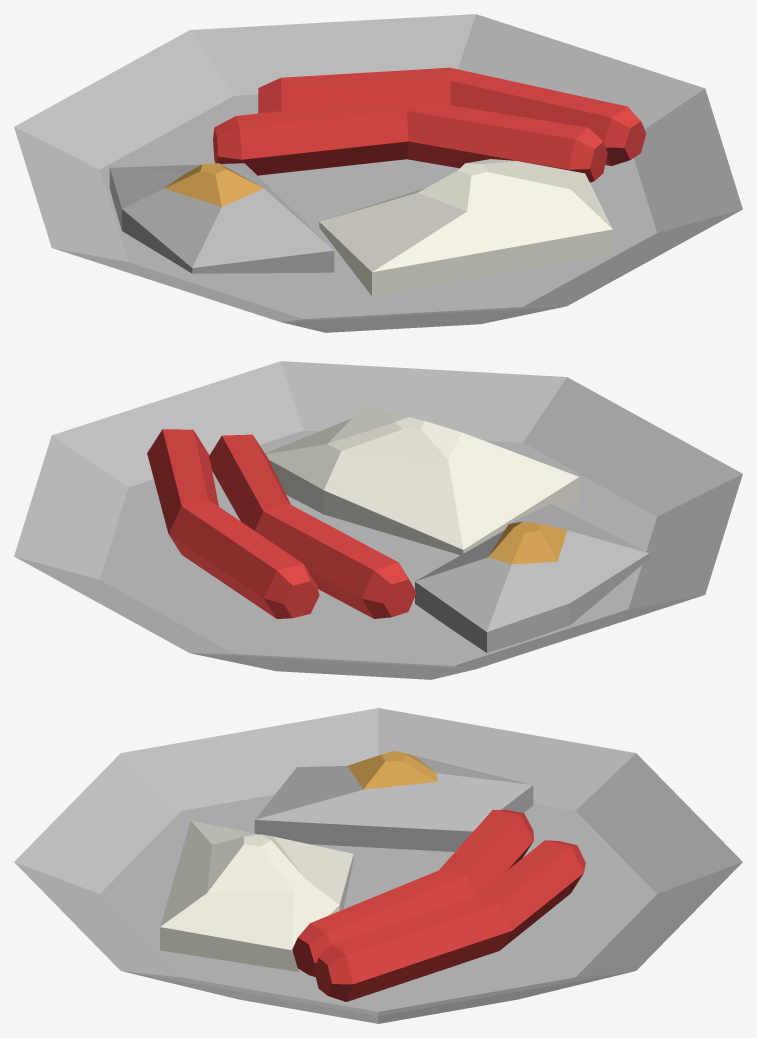
The model's file is Breakfast.fbx.
3 views of the same model, one above another, from view 1: azimuth 30°, elevation 25°; view 2: azimuth 150°, elevation 25°; view 3: azimuth 270°, elevation 25° (orthographic). The views are drawn at different scales.
Visible parts, largest first — view 1: Breakfast; view 2: Breakfast; view 3: Breakfast.
Part boxes in pixels (<box>): Breakfast: <box>14,14,742,332</box>; Breakfast: <box>14,361,742,679</box>; Breakfast: <box>14,708,742,1023</box>.
Size of the model in its own units: 65.25 by 65.25 by 11.36.
